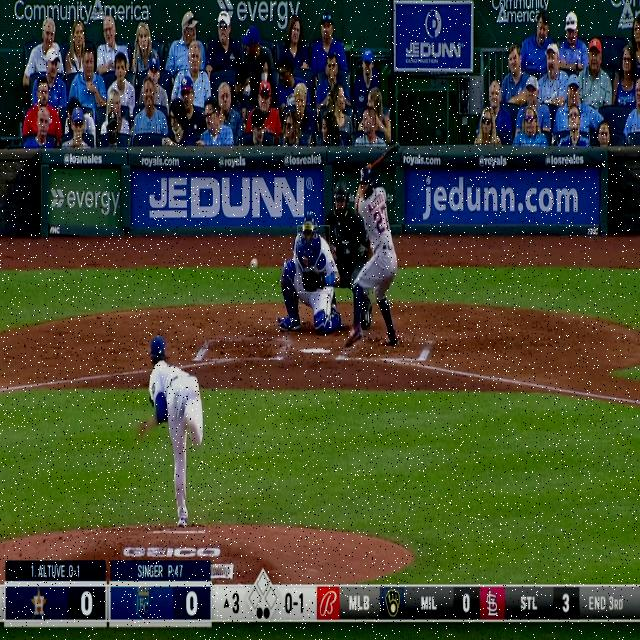baseball: (250, 257, 258, 270)
